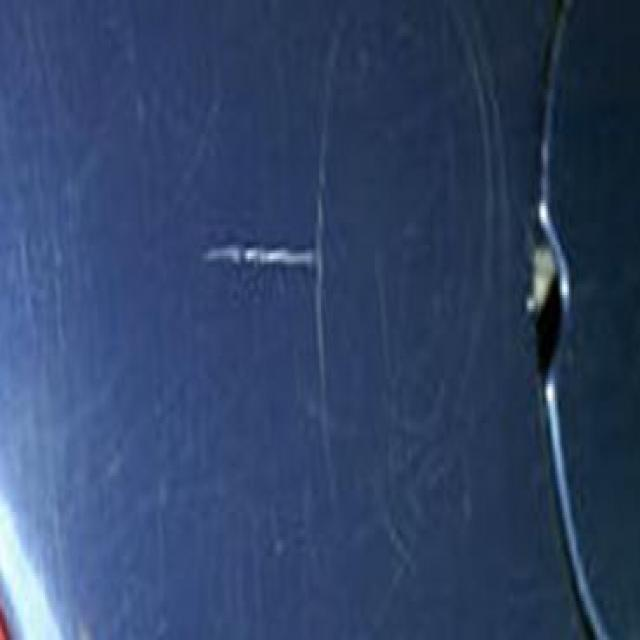scratch: (199, 234, 321, 286)
